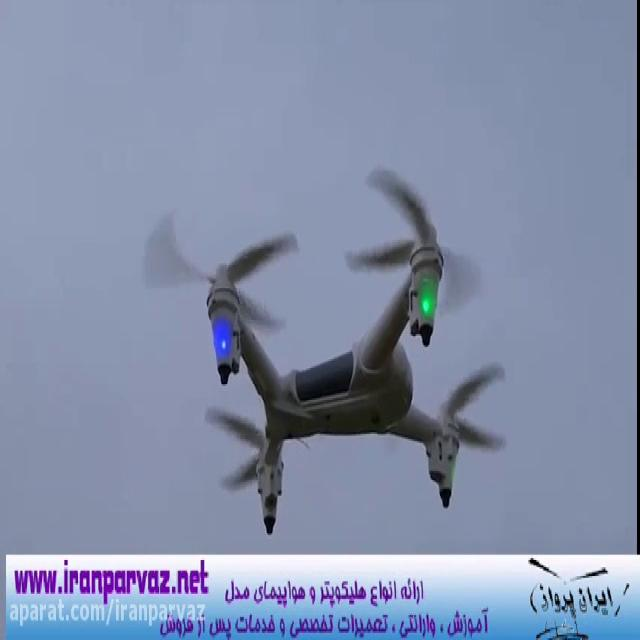drone: (136, 149, 514, 539)
